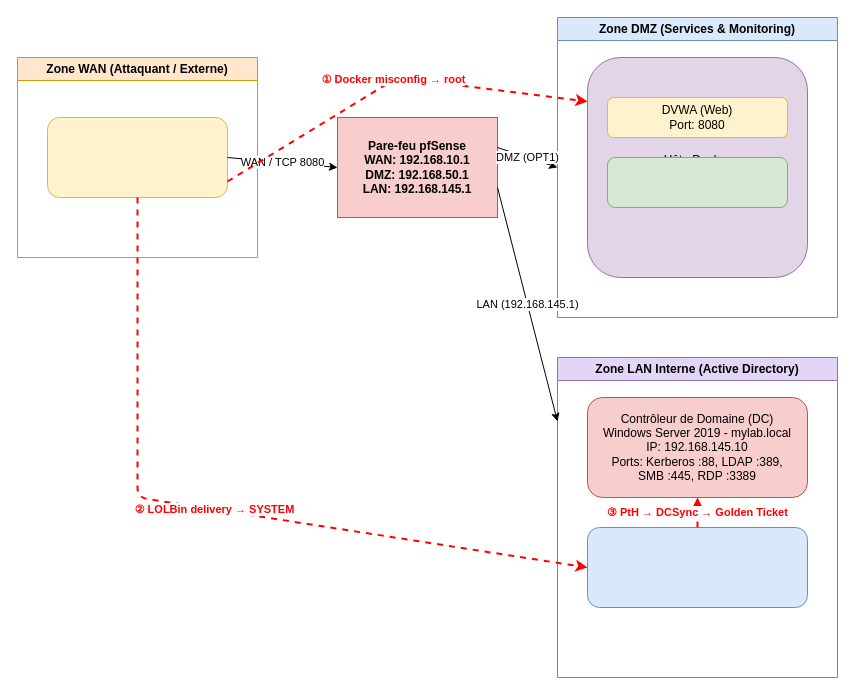
This 855x695 diagram has some shape labels left out. The shapes that lost their labels are listed below. From the top down, each one's centre as x and y in pixels, then its label:
the point at 137,157: Kali Linux IP: 192.168.10.50 (Machine Attaquante)
the point at 697,182: Prometheus (:9090) / Grafana (:3000) cAdvisor (:8081)
the point at 697,567: Poste Client Windows 10 IP: 192.168.145.20 (Joint au domaine)
